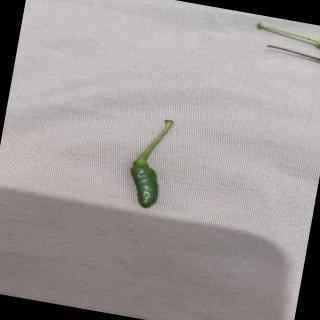Cabai Hijau: (123, 112, 183, 214)
